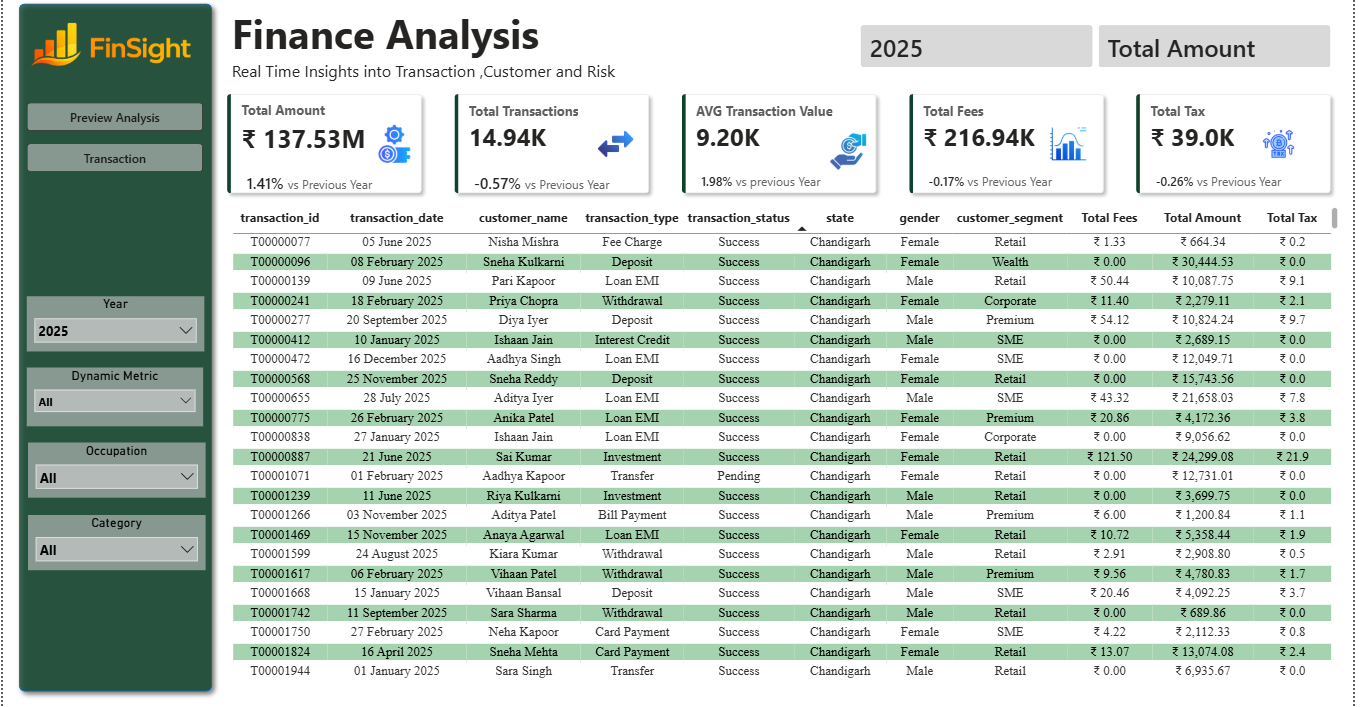

The dashboard page shown, as its layout file describes it:
{"tool":"powerbi","page":{"name":"Transaction","canvas":[1800,950],"ordinal":1},"visuals":[{"type":"shape","title":"Dynamic Metric","box":[10,0,280,940],"z":0},{"type":"image","box":[26.7,23.3,240,86.7],"z":1000},{"type":"textbox","box":[300,10,554,116],"z":2000},{"type":"slicer","title":"Year","fields":{"Values":["Calender_Table.Year"]},"box":[31.7,401.7,236.7,73.3],"z":3000},{"type":"cardVisual","fields":{"Data":["Calender_Table.Total Amout","Calender_Table.Total Transactions","Calender_Table.AVG Transaction Value","Calender_Table.Total Fees","Calender_Table.Total Tax"]},"box":[270,103.3,1530,190],"z":4000},{"type":"image","box":[1660,173.3,81.7,50],"z":5000},{"type":"image","box":[1101.7,183.3,50,50],"z":6000},{"type":"image","box":[791.7,173.3,50,50],"z":7000},{"type":"image","box":[496.7,173.3,50,50],"z":8000},{"type":"image","box":[1395,173.3,50,50],"z":9000},{"type":"slicer","title":"Dynamic Metric","fields":{"Values":["Dynamic Metric.Dynamic Metric"]},"box":[31.7,496.7,235,78.3],"z":10000},{"type":"cardVisual","fields":{"Data":["Calender_Table.Select Year","Min(Dynamic Metric.Dynamic Title)"]},"box":[1126.7,23.3,660,90],"z":11000},{"type":"slicer","title":"Occupation","fields":{"Values":["customers.occupation"]},"box":[33.3,596.7,236.7,73.3],"z":12000},{"type":"slicer","title":"Category","fields":{"Values":["finance_transactions.merchant_category"]},"box":[33.3,693.3,236.7,73.3],"z":13000},{"type":"tableEx","fields":{"Values":["finance_transactions.transaction_id","finance_transactions.transaction_date","customers.customer_name","finance_transactions.transaction_type","finance_transactions.transaction_status","customers.state","customers.gender","customers.customer_segment","Calender_Table.Total Fees","Calender_Table.Total Amount","Calender_Table.Total Tax"]},"box":[300,278.3,1485,636.7],"z":14000},{"type":"pageNavigator","box":[31.7,143.3,235,93.3],"z":15001}]}

Visuals, with their boxes in screenshot pixels (x1, y1, x2, y2), scaled from the page's 1800x950 canvas onto the 1362x707 screenshot:
"Dynamic Metric" shape: bbox(8, 0, 219, 700)
image: bbox(20, 17, 202, 82)
textbox: bbox(227, 7, 646, 94)
"Year" slicer: bbox(24, 299, 203, 354)
cardVisual - Calender_Table.Total Amout x Calender_Table.Total Transactions: bbox(204, 77, 1361, 218)
image: bbox(1256, 129, 1318, 166)
image: bbox(834, 136, 871, 174)
image: bbox(599, 129, 637, 166)
image: bbox(376, 129, 414, 166)
image: bbox(1056, 129, 1093, 166)
"Dynamic Metric" slicer: bbox(24, 370, 202, 428)
cardVisual - Calender_Table.Select Year x Min(Dynamic Metric.Dynamic Title): bbox(853, 17, 1352, 84)
"Occupation" slicer: bbox(25, 444, 204, 499)
"Category" slicer: bbox(25, 516, 204, 571)
tableEx - finance_transactions.transaction_id x finance_transactions.transaction_date: bbox(227, 207, 1351, 681)
pageNavigator: bbox(24, 107, 202, 176)
